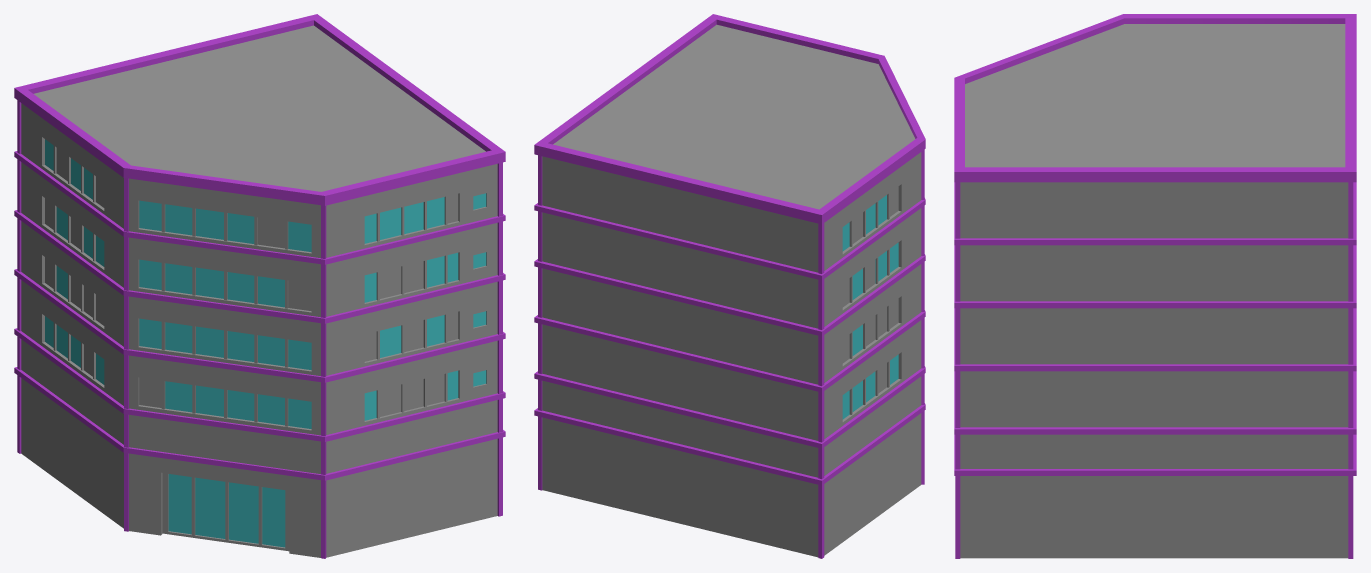
File: buildings_S_03_VAR3.fbx
3 renders of one model, left to right at view 1: azimuth 30°, elevation 25°; view 2: azimuth 150°, elevation 25°; view 3: azimuth 270°, elevation 25°, orthographic. The views are drawn at different scales.
Parts seen in each view (by area): view 1: buildings_S_03_VAR3; view 2: buildings_S_03_VAR3; view 3: buildings_S_03_VAR3.
Part boxes in pixels (left/top/right/bottom): buildings_S_03_VAR3: left=14, top=14, right=505, bottom=558; buildings_S_03_VAR3: left=534, top=14, right=925, bottom=558; buildings_S_03_VAR3: left=954, top=14, right=1356, bottom=558.
Bounding box in the file's own units: 15.49 × 17.76 × 16.68.
